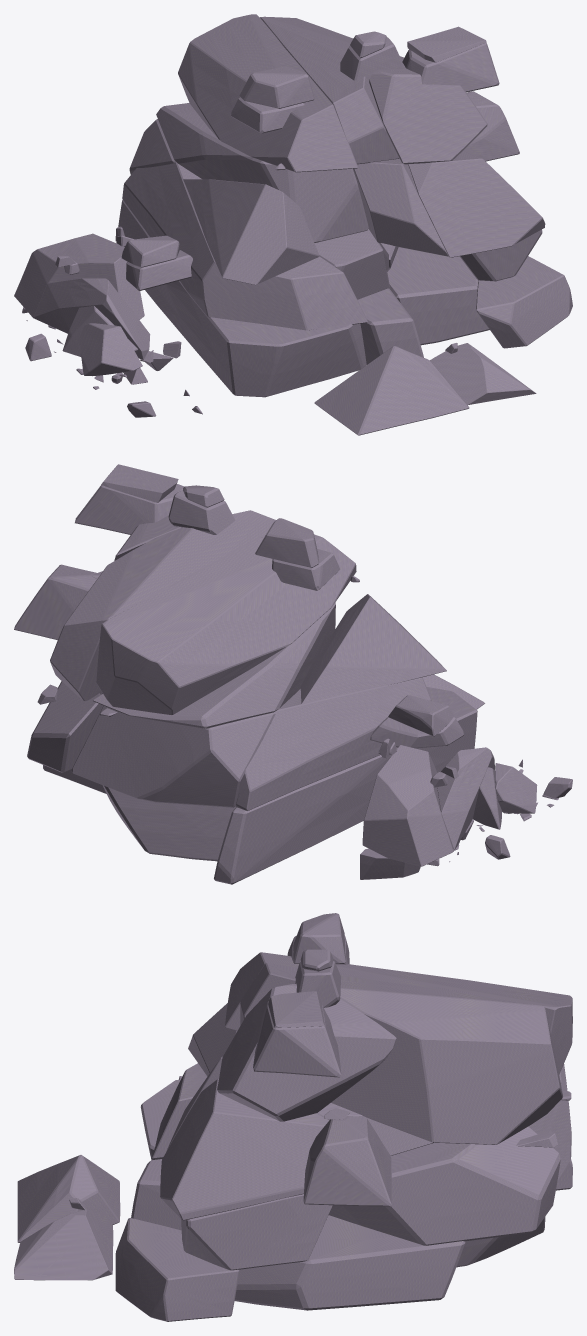
Rendered from A09_Massif_B.fbx.
The picture shows the model from 3 angles, top to bottom: view 1: azimuth 30°, elevation 25°; view 2: azimuth 150°, elevation 25°; view 3: azimuth 270°, elevation 25°; orthographic projection. The views are drawn at different scales.
Parts seen in each view (by area): view 1: A09B_1_4, A09B_1_15, A09B_1_0, A09B_1_10, A09B_1_11, A09B_1_13, A09B_1_buttress0_0, A09B_1_17, A09B_1_16, A09B_1_2, A09B_1_3, A09B_1_12 (+18 smaller); view 2: A09B_1_15, A09B_1_5, A09B_1_0, A09B_1_4, A09B_1_16, A09B_1_10, A09B_0_31, A09B_1_11, A09B_1_1, A09B_1_6, A09B_1_crag3_0, A09B_0_30 (+13 smaller); view 3: A09B_1_16, A09B_1_6, A09B_1_13, A09B_1_2, A09B_1_17, A09B_1_3, A09B_1_7, A09B_1_crag3_0, A09B_1_15, A09B_1_buttress1_0, A09B_1_buttress0_0, A09B_1_crag1_0 (+10 smaller).
Boxes of the visible parts, x1,y1,x2,y2 form: A09B_1_4: (122,161,367,330); A09B_1_15: (178,14,357,172); A09B_1_0: (118,200,366,397); A09B_1_10: (183,179,319,284); A09B_1_11: (156,103,368,242); A09B_1_13: (408,150,545,257); A09B_1_buttress0_0: (314,346,469,435); A09B_1_17: (369,56,487,164); A09B_1_16: (260,16,399,164); A09B_1_2: (387,247,489,345); A09B_1_3: (476,256,572,348); A09B_1_12: (353,158,448,256); A09B_1_15: (96,534,356,715); A09B_1_5: (71,705,275,807); A09B_1_0: (214,687,477,884); A09B_1_4: (236,677,431,810); A09B_1_16: (50,510,275,701); A09B_1_10: (300,594,446,704); A09B_0_31: (362,745,453,866); A09B_1_11: (93,602,335,728); A09B_1_1: (103,785,235,861); A09B_1_6: (27,681,103,772); A09B_1_crag3_0: (14,564,96,640); A09B_0_30: (437,747,494,849); A09B_1_16: (240,963,562,1144); A09B_1_6: (328,1126,560,1245); A09B_1_13: (160,1078,328,1220); A09B_1_2: (234,1215,465,1310); A09B_1_17: (217,983,396,1121); A09B_1_3: (115,1218,239,1321); A09B_1_7: (181,1194,332,1270); A09B_1_crag3_0: (303,1116,391,1206); A09B_1_15: (225,952,572,1074); A09B_1_buttress1_0: (14,1209,113,1280); A09B_1_buttress0_0: (17,1155,120,1242); A09B_1_crag1_0: (253,1001,341,1077).
Bounding box in the file's own units: 616 × 341 × 560.
